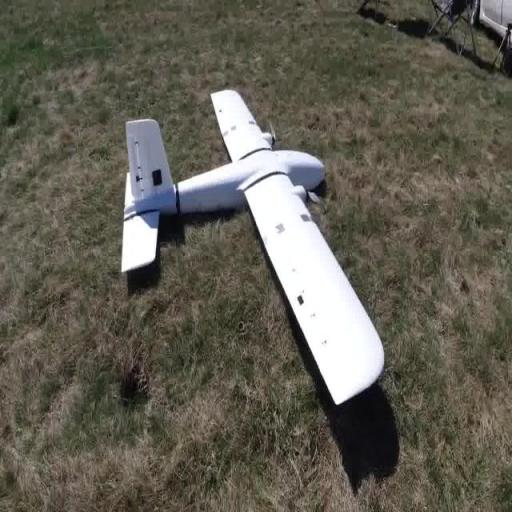uav: (110, 82, 391, 416)
